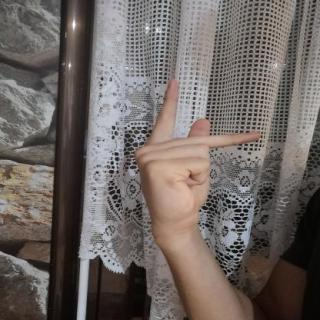DHAA: (124, 71, 273, 237)
